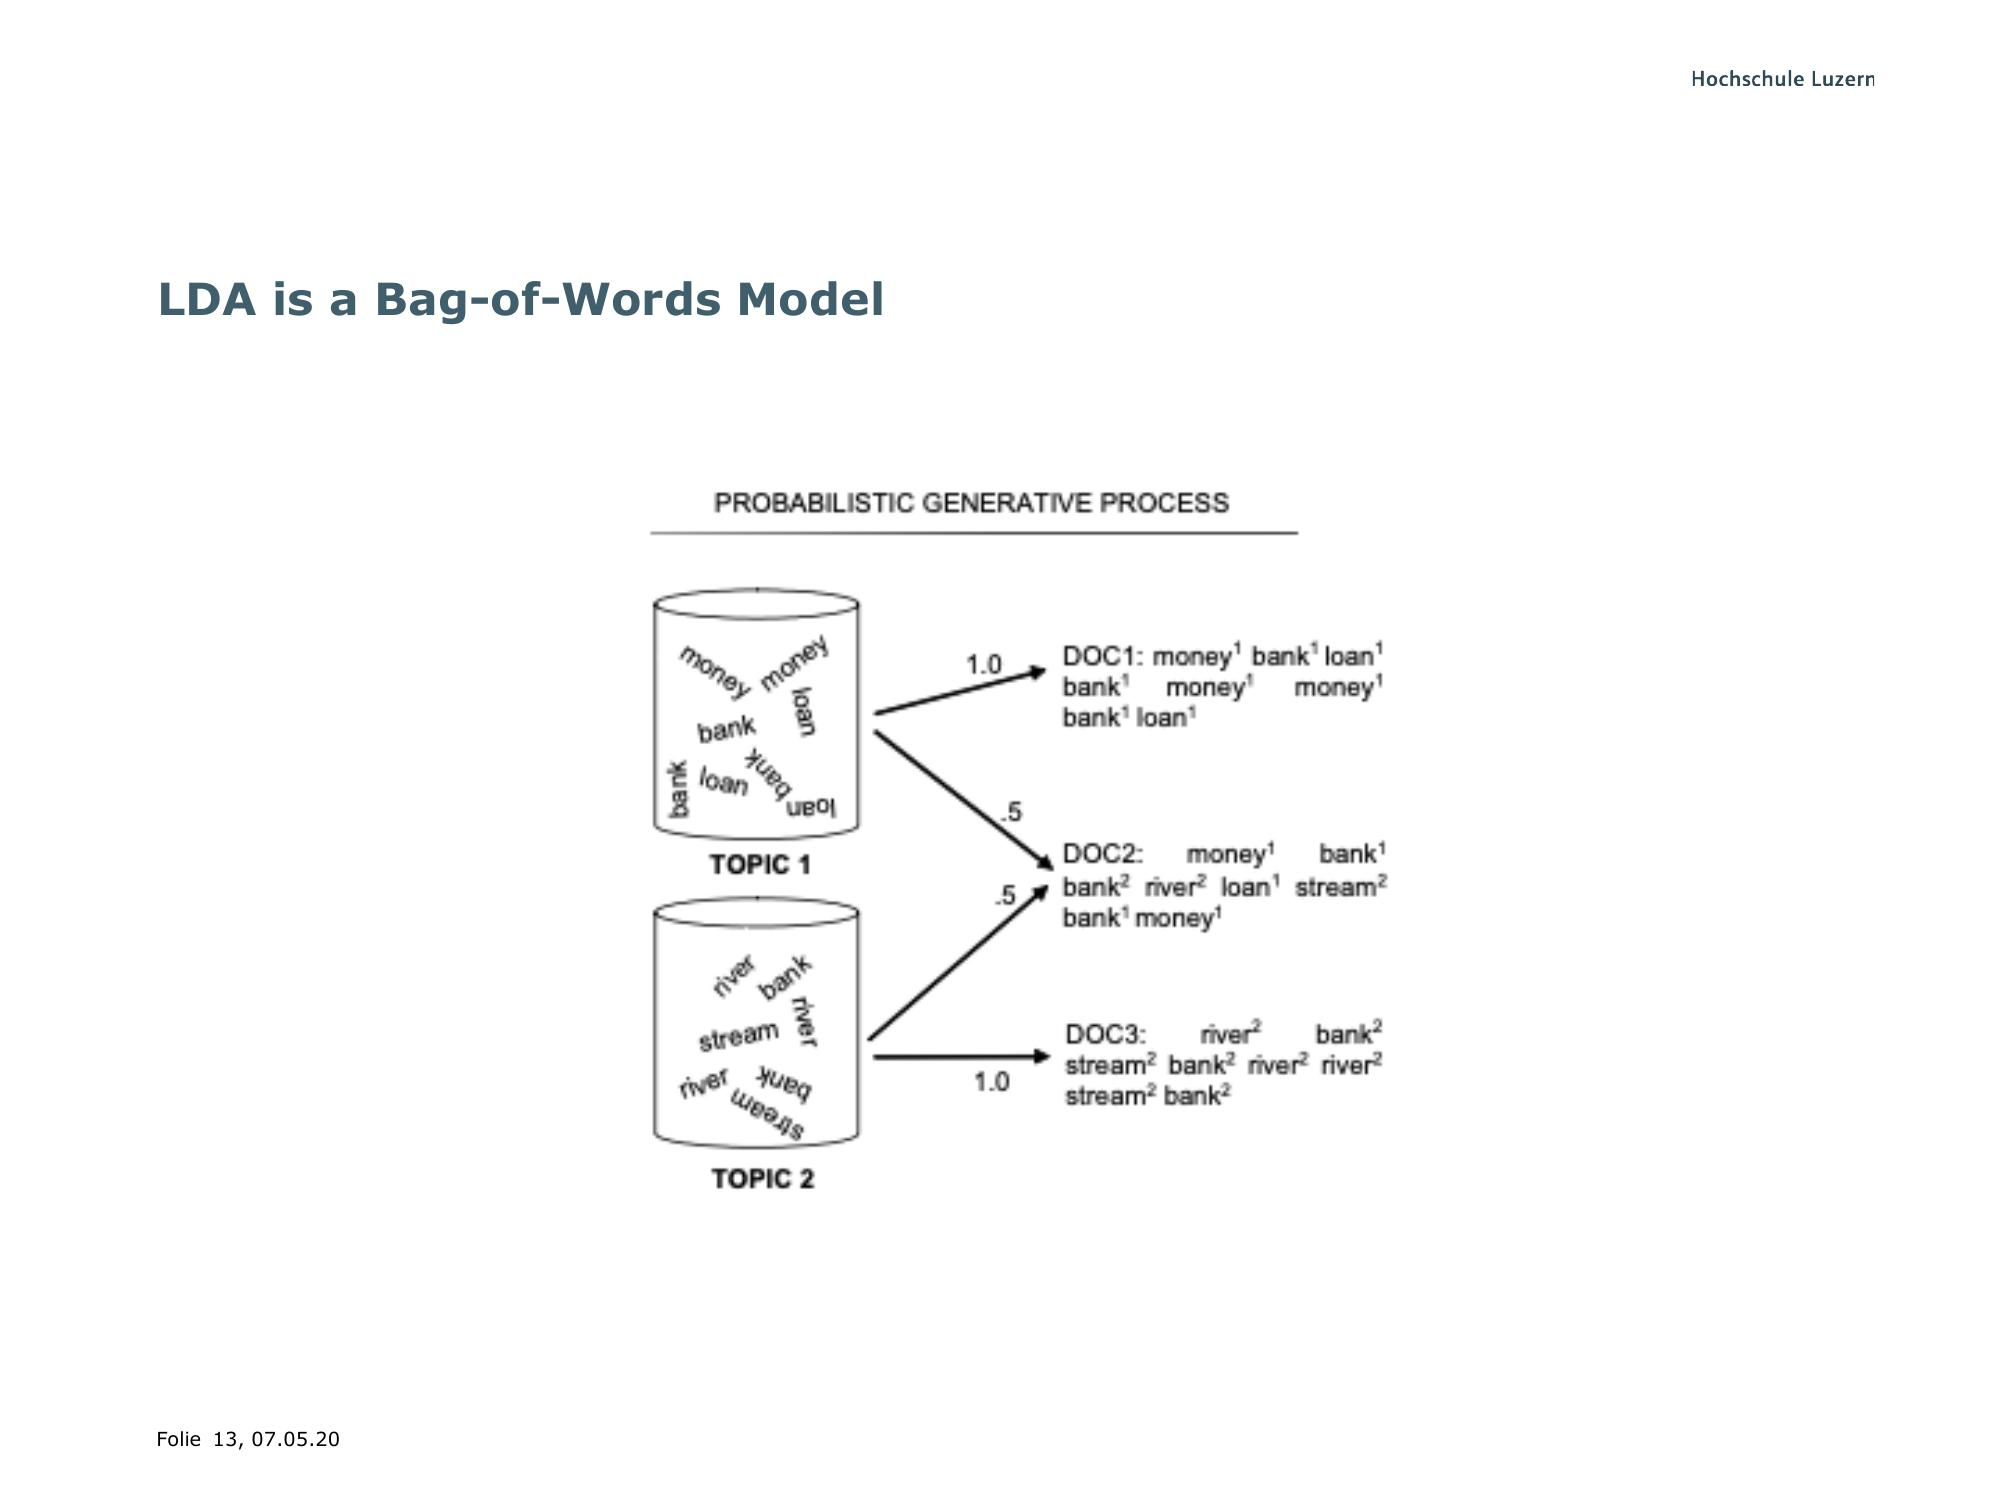Title: (143, 262, 896, 331)
